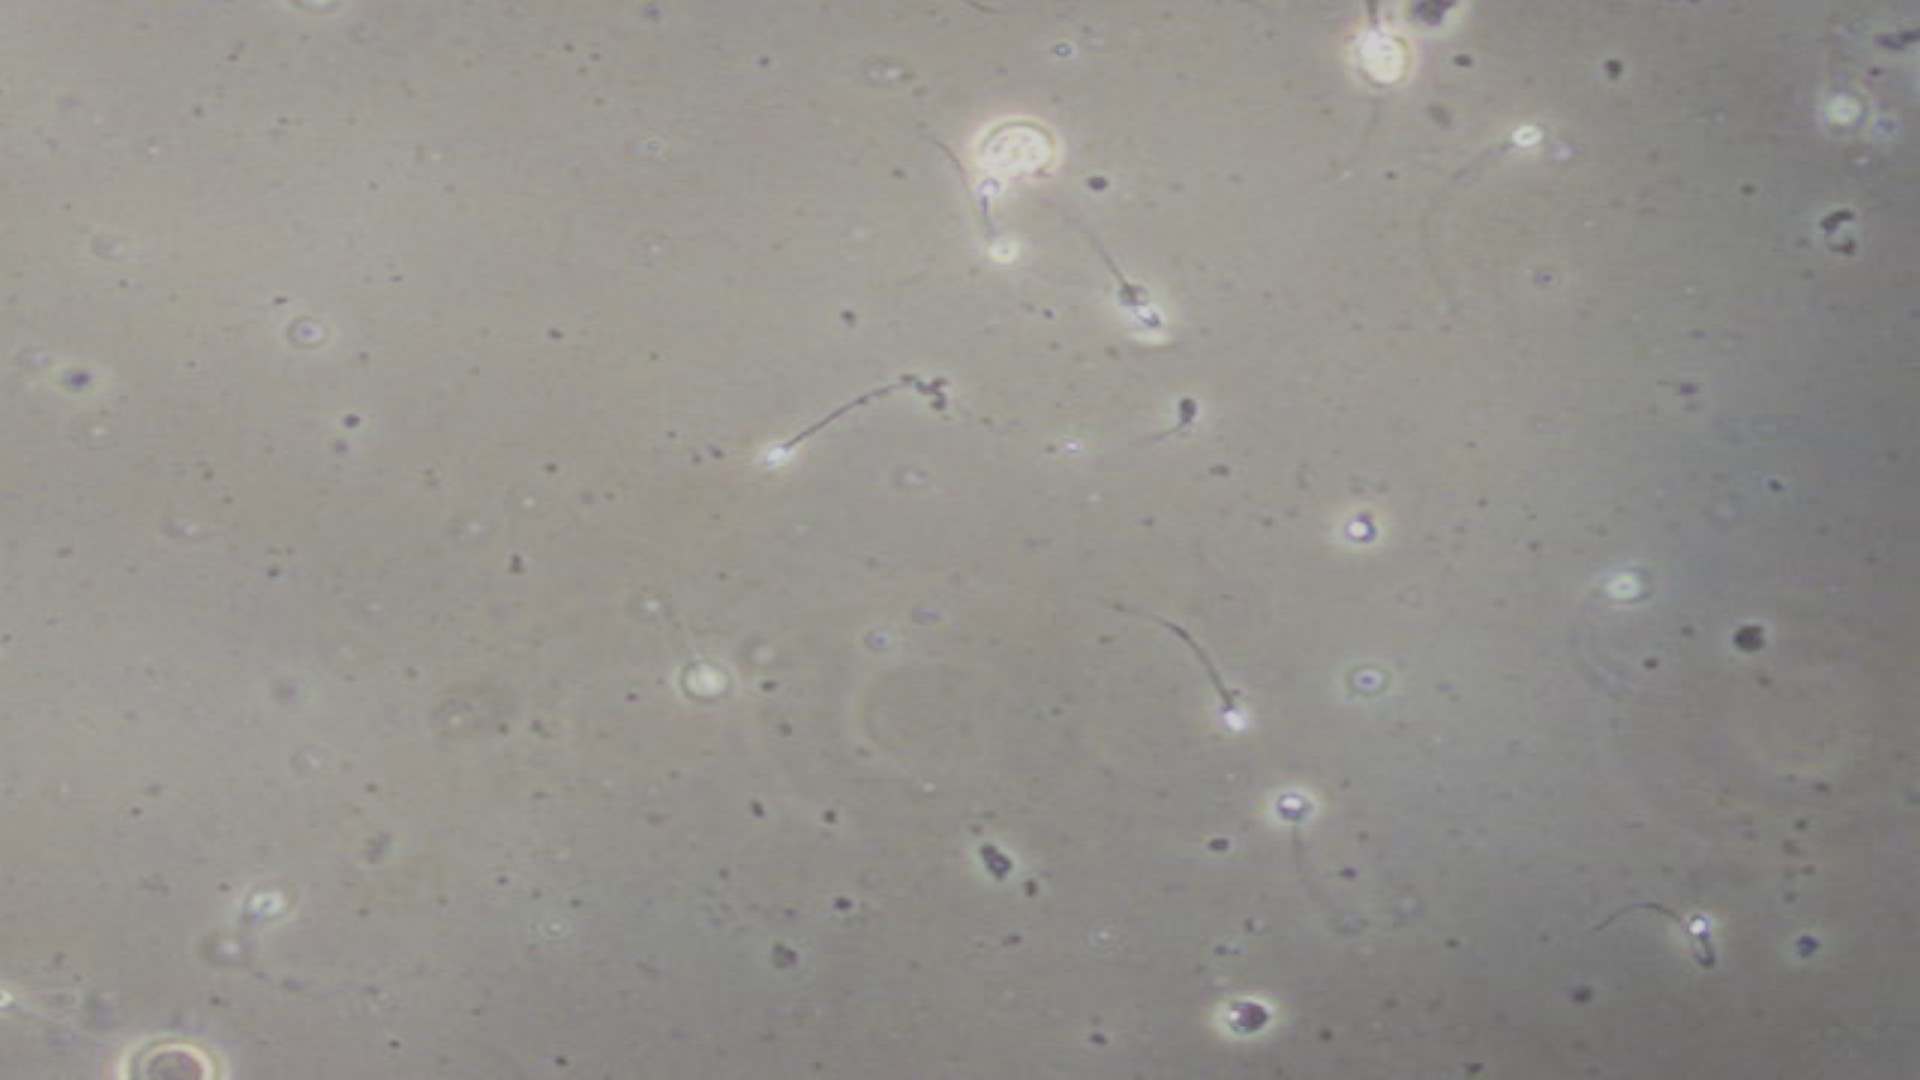sperm: (1047, 207, 1160, 336), (1606, 882, 1745, 982), (1439, 113, 1549, 233), (1149, 611, 1253, 735), (746, 388, 877, 475), (1267, 786, 1360, 907), (928, 164, 1025, 257)
